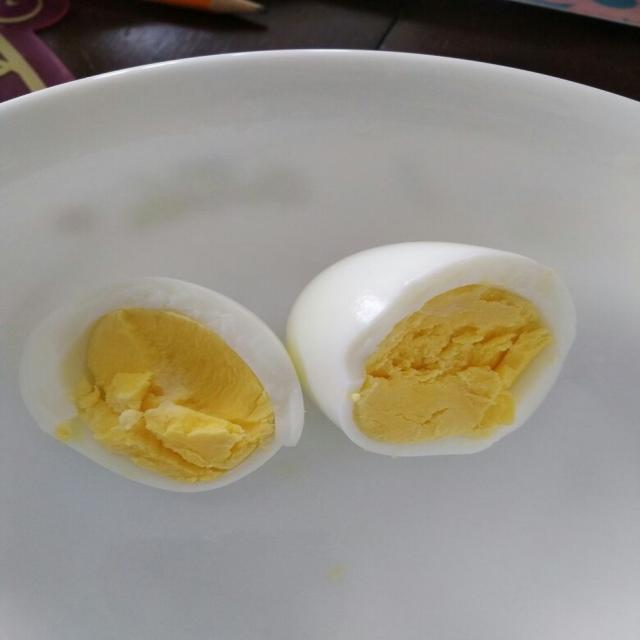egg boiled: (287, 243, 575, 456), (20, 278, 303, 491)
